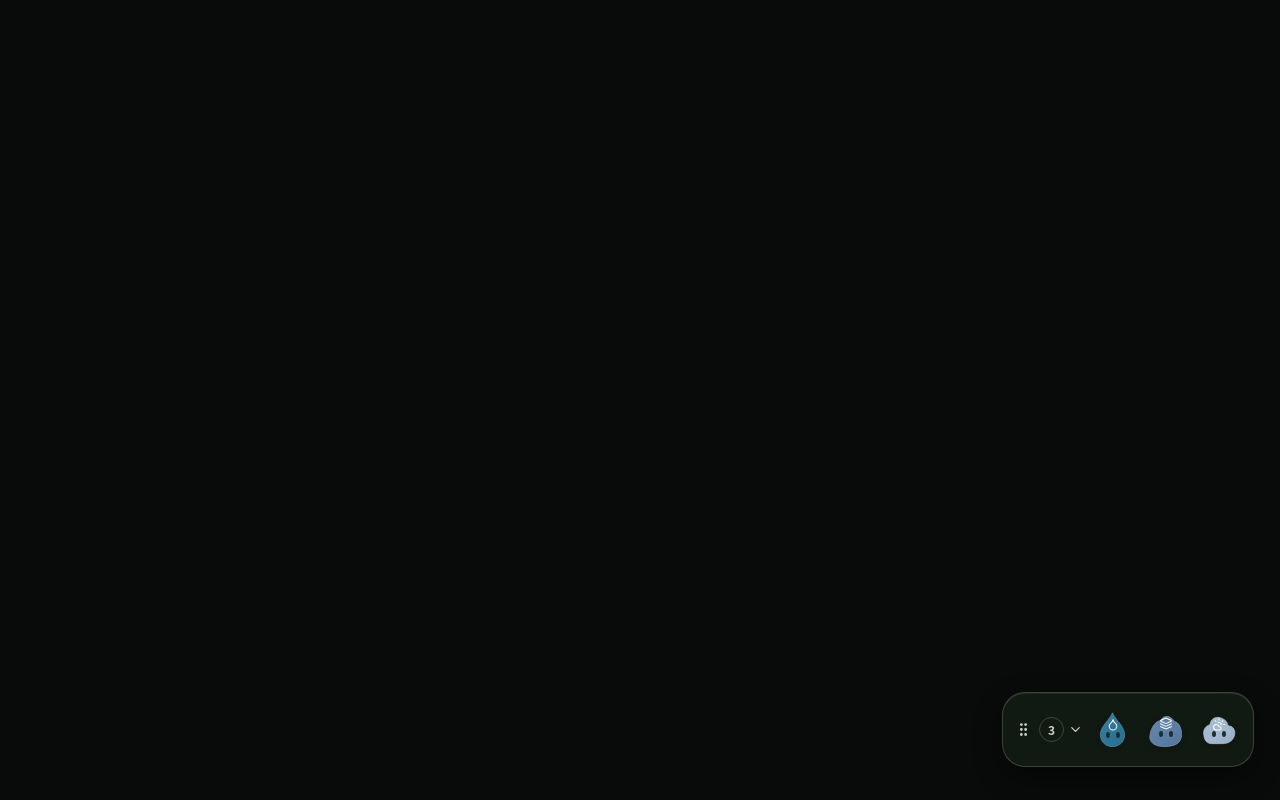
keeps a draft after a send error and lets the user retry
Click the button named "Open Water specialist" at x=1112, y=730, box [1088,705,1137,754]
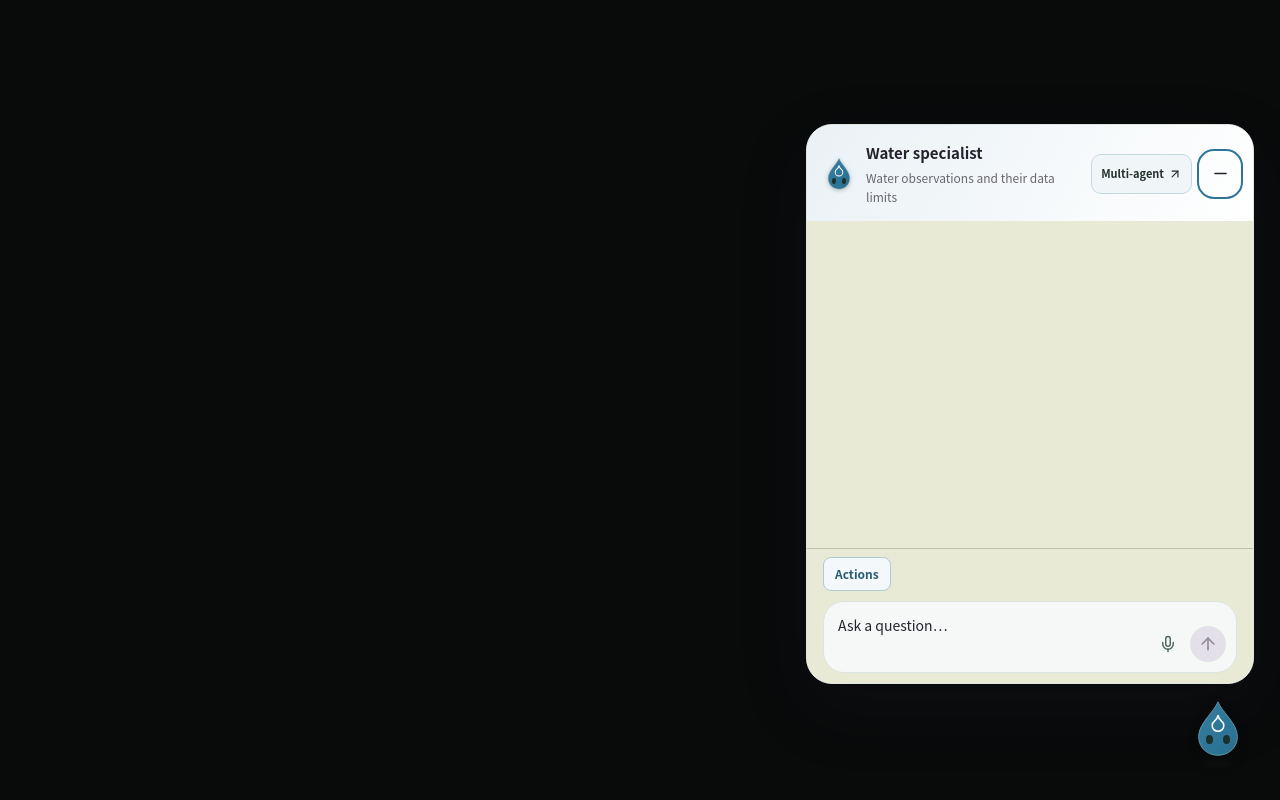
Result: the text box is shown
Type "Question" into the text box at x=990, y=638, box [838,614,1142,662]
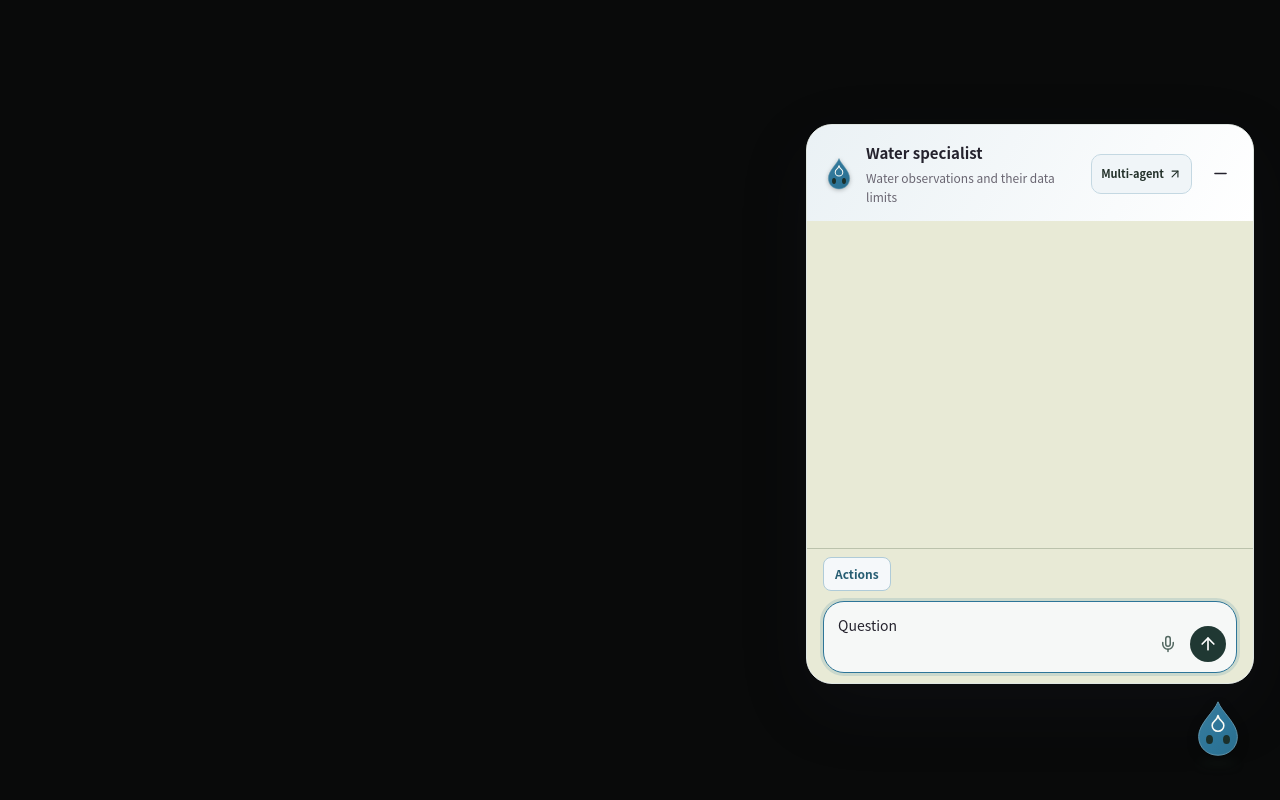
Click the button named "Send message" at x=1208, y=644, box [1190,626,1226,662]
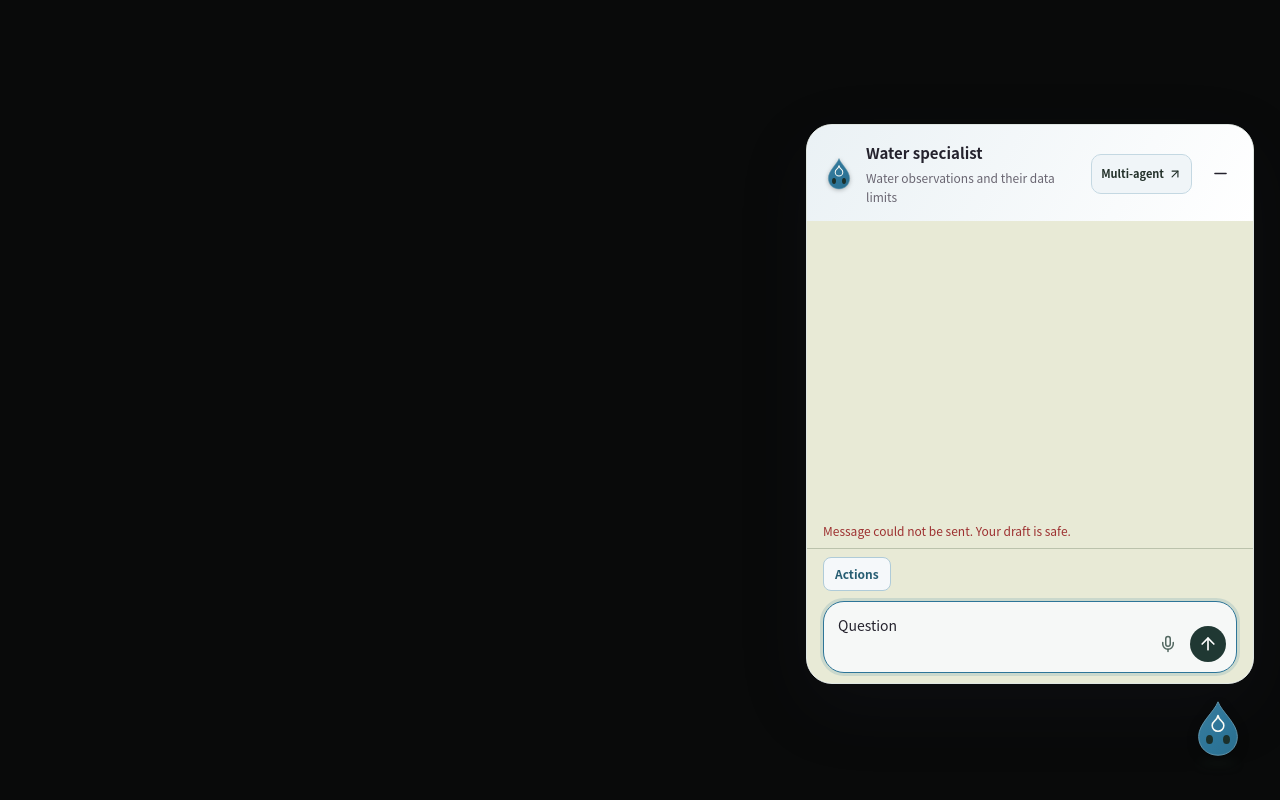
Result: the message shows "Your draft is safe" at [823,522,1071,539]
Click the button named "Send message" at x=1208, y=644, box [1190,626,1226,662]
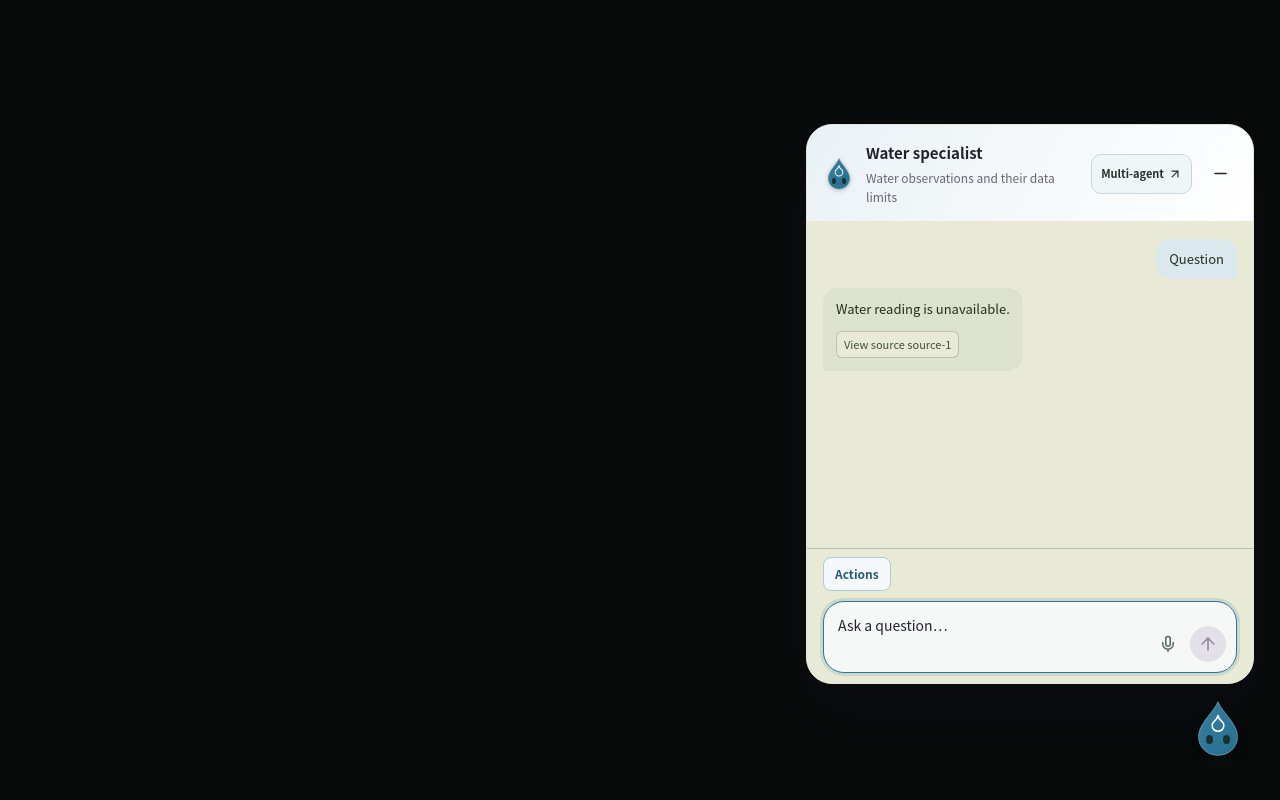
Result: the text "Water reading is unavailable." is shown at [836,299,1010,319]
